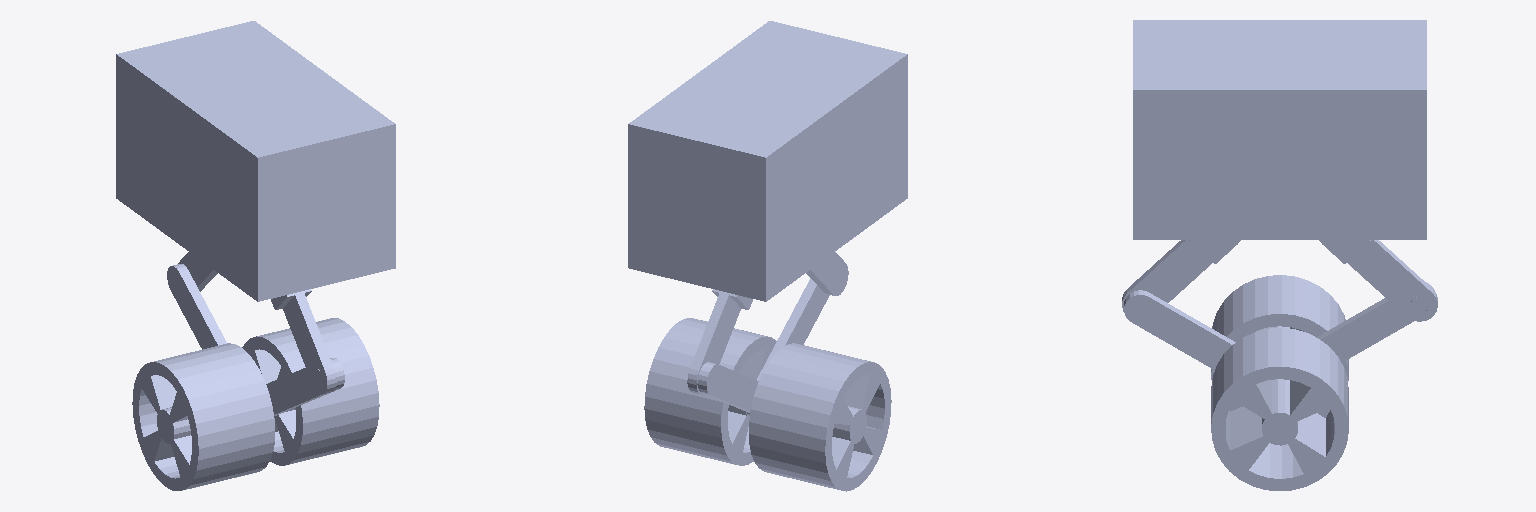
URDF robot description (wheel_leg):
<?xml version="1.0" encoding="utf-8"?>
<!-- This URDF was automatically created by SolidWorks to URDF Exporter! Originally created by [author] ([email redacted]) 
     Commit Version: 1.6.0-4-g7f85cfe  Build Version: 1.6.7995.38578
     For more information, please see http://wiki.ros.org/sw_urdf_exporter -->
<robot
  name="wheel_leg">
  <link
    name="body_link">
    <inertial>
      <origin
        xyz="3.37310181025487E-18 -0.000731227663035883 3.28342495818209E-17"
        rpy="0 0 0" />
      <mass
        value="10.4369238910096" />
      <inertia
        ixx="0.117568847743583"
        ixy="-1.15617863838456E-18"
        ixz="1.38139162296356E-19"
        iyy="0.116725987863209"
        iyz="-6.67481475645864E-18"
        izz="0.056839681354687" />
    </inertial>
    <visual>
      <origin
        xyz="0 0 0"
        rpy="0 0 0" />
      <geometry>
        <mesh
          filename="meshes/body_link.obj" />
      </geometry>
      <material
        name="">
        <color
          rgba="0.792156862745098 0.819607843137255 0.933333333333333 1" />
      </material>
    </visual>
    <collision>
      <origin
        xyz="0 0 0"
        rpy="0 0 0" />
      <geometry>
        <mesh
          filename="meshes/body_link.obj" />
      </geometry>
    </collision>
  </link>
  <link
    name="foreleg_link1">
    <inertial>
      <origin
        xyz="-1.49274668455553E-15 0.0267581865337991 -2.77555756156289E-17"
        rpy="0 0 0" />
      <mass
        value="0.0739398223686155" />
      <inertia
        ixx="0.000151872789753689"
        ixy="7.4509291851736E-21"
        ixz="-2.92452510201117E-22"
        iyy="1.4436599239087E-05"
        iyz="1.64747908240961E-19"
        izz="0.000145963784497094" />
    </inertial>
    <visual>
      <origin
        xyz="0 0 0"
        rpy="0 0 0" />
      <geometry>
        <mesh
          filename="meshes/foreleg_link1.obj" />
      </geometry>
      <material
        name="">
        <color
          rgba="0.792156862745098 0.819607843137255 0.933333333333333 1" />
      </material>
    </visual>
    <collision>
      <origin
        xyz="0 0 0"
        rpy="0 0 0" />
      <geometry>
        <mesh
          filename="meshes/foreleg_link1.obj" />
      </geometry>
    </collision>
  </link>
  <joint
    name="thigh1"
    type="revolute">
    <origin
      xyz="0 -0.12364 -0.17864"
      rpy="0.7854 0 0" />
    <parent
      link="body_link" />
    <child
      link="foreleg_link1" />
    <axis
      xyz="0 0 0" />
    <limit
      lower="-1.57"
      upper="1.57"
      effort="30"
      velocity="23" />
  </joint>
  <link
    name="foreleg_link2">
    <inertial>
      <origin
        xyz="0.00549720278457914 0.00754195823131308 -5.55111512312578E-17"
        rpy="0 0 0" />
      <mass
        value="0.089974512237157" />
      <inertia
        ixx="0.000330944687819586"
        ixy="3.73031392679867E-06"
        ixz="-2.32934060494933E-21"
        iyy="1.09872708384457E-05"
        iyz="2.00323292025642E-19"
        izz="0.000323157047675612" />
    </inertial>
    <visual>
      <origin
        xyz="0 0 0"
        rpy="0 0 0" />
      <geometry>
        <mesh
          filename="meshes/foreleg_link2.obj" />
      </geometry>
      <material
        name="">
        <color
          rgba="0.792156862745098 0.819607843137255 0.933333333333333 1" />
      </material>
    </visual>
    <collision>
      <origin
        xyz="0 0 0"
        rpy="0 0 0" />
      <geometry>
        <mesh
          filename="meshes/foreleg_link2.obj" />
      </geometry>
    </collision>
  </link>
  <joint
    name="lower_leg1"
    type="revolute">
    <origin
      xyz="0.006 -0.020417 -0.087844"
      rpy="1.7901 0 0" />
    <parent
      link="foreleg_link1" />
    <child
      link="foreleg_link2" />
    <axis
      xyz="0 0 0" />
    <limit
      lower="-1.57"
      upper="1.57"
      effort="0"
      velocity="0" />
  </joint>
  <link
    name="wheel_link">
    <inertial>
      <origin
        xyz="1.8428621001924E-18 1.95943768556878E-14 -2.2815083156047E-14"
        rpy="0 0 0" />
      <mass
        value="2.21106966475732" />
      <inertia
        ixx="0.00726098209005097"
        ixy="2.81690305599461E-18"
        ixz="-1.41348936711185E-18"
        iyy="0.0156045113542061"
        iyz="-1.85795763651288E-15"
        izz="0.0156045113542067" />
    </inertial>
    <visual>
      <origin
        xyz="0 0 0"
        rpy="0 0 0" />
      <geometry>
        <mesh
          filename="meshes/wheel_link.obj" />
      </geometry>
      <material
        name="">
        <color
          rgba="0.792156862745098 0.819607843137255 0.933333333333333 1" />
      </material>
    </visual>
    <collision>
      <origin
        xyz="0 0 0"
        rpy="0 0 0" />
      <geometry>
        <mesh
          filename="meshes/wheel_link.obj" />
      </geometry>
    </collision>
  </link>
  <joint
    name="huai_joint"
    type="continuous">
    <origin
      xyz="-0.006 -0.09 0"
      rpy="-2.5755 0 0" />
    <parent
      link="foreleg_link2" />
    <child
      link="wheel_link" />
    <axis
      xyz="1 0 0" />
  </joint>
  <link
    name="hindleg_link1">
    <inertial>
      <origin
        xyz="-1.46596510186701E-15 0.0267581865337991 2.77555756156289E-17"
        rpy="0 0 0" />
      <mass
        value="0.0739398223686155" />
      <inertia
        ixx="0.000151872789753689"
        ixy="1.50779638554275E-20"
        ixz="-2.92452510201073E-22"
        iyy="1.4436599239087E-05"
        iyz="0"
        izz="0.000145963784497094" />
    </inertial>
    <visual>
      <origin
        xyz="0 0 0"
        rpy="0 0 0" />
      <geometry>
        <mesh
          filename="meshes/hindleg_link1.obj" />
      </geometry>
      <material
        name="">
        <color
          rgba="0.792156862745098 0.819607843137255 0.933333333333333 1" />
      </material>
    </visual>
    <collision>
      <origin
        xyz="0 0 0"
        rpy="0 0 0" />
      <geometry>
        <mesh
          filename="meshes/hindleg_link1.obj" />
      </geometry>
    </collision>
  </link>
  <joint
    name="thigh2"
    type="revolute">
    <origin
      xyz="0 0.12364 -0.17864"
      rpy="2.3562 0 0" />
    <parent
      link="body_link" />
    <child
      link="hindleg_link1" />
    <axis
      xyz="0 0 0" />
    <limit
      lower="-1.57"
      upper="1.57"
      effort="30"
      velocity="23" />
  </joint>
  <link
    name="hindleg_link2">
    <inertial>
      <origin
        xyz="0.00549720278457914 0.00754195823131304 0"
        rpy="0 0 0" />
      <mass
        value="0.0899745122371571" />
      <inertia
        ixx="0.000330944687819586"
        ixy="3.73031392679872E-06"
        ixz="-8.47032947254303E-22"
        iyy="1.09872708384457E-05"
        iyz="7.53859323056327E-20"
        izz="0.000323157047675613" />
    </inertial>
    <visual>
      <origin
        xyz="0 0 0"
        rpy="0 0 0" />
      <geometry>
        <mesh
          filename="meshes/hindleg_link2.obj" />
      </geometry>
      <material
        name="">
        <color
          rgba="0.792156862745098 0.819607843137255 0.933333333333333 1" />
      </material>
    </visual>
    <collision>
      <origin
        xyz="0 0 0"
        rpy="0 0 0" />
      <geometry>
        <mesh
          filename="meshes/hindleg_link2.obj" />
      </geometry>
    </collision>
  </link>
  <joint
    name="lower_leg2"
    type="revolute">
    <origin
      xyz="-0.006 -0.020417 0.087844"
      rpy="-1.3515 0 3.1416" />
    <parent
      link="hindleg_link1" />
    <child
      link="hindleg_link2" />
    <axis
      xyz="0 0 0" />
    <limit
      lower="-1.57"
      upper="1.57"
      effort="0"
      velocity="0" />
  </joint>
</robot>

--- Render facts (derived) ---
The picture shows the robot from 3 angles, left to right: view 1: azimuth 30°, elevation 25°; view 2: azimuth 150°, elevation 25°; view 3: azimuth 270°, elevation 25°; orthographic projection.
Model wheel_leg with 6 links and 5 joints (4 revolute, 1 continuous), rooted at body_link, posed every joint at zero.
Links seen in each view (by area): view 1: body_link, wheel_link, foreleg_link1, hindleg_link2, foreleg_link2, hindleg_link1; view 2: body_link, wheel_link, hindleg_link1, hindleg_link2, foreleg_link2, foreleg_link1; view 3: body_link, wheel_link, hindleg_link1, foreleg_link2, foreleg_link1, hindleg_link2.
Link boxes in pixels (x1,y1,x2,y2): body_link: [116, 21, 395, 301]; wheel_link: [132, 318, 379, 490]; foreleg_link1: [271, 289, 336, 394]; hindleg_link2: [167, 264, 226, 349]; foreleg_link2: [266, 358, 344, 415]; hindleg_link1: [178, 252, 217, 291]; body_link: [628, 21, 907, 301]; wheel_link: [644, 318, 891, 491]; hindleg_link1: [687, 289, 752, 394]; hindleg_link2: [697, 362, 758, 412]; foreleg_link2: [747, 271, 843, 415]; foreleg_link1: [806, 252, 848, 295]; body_link: [1133, 20, 1426, 241]; wheel_link: [1211, 275, 1348, 490]; hindleg_link1: [1319, 240, 1437, 321]; foreleg_link2: [1124, 290, 1235, 369]; foreleg_link1: [1122, 240, 1240, 311]; hindleg_link2: [1316, 282, 1434, 362].
Bounding box of the posed robot: 0.236 × 0.3437 × 0.4684 m (x, y, z).
Meshes: 6 distinct files referenced, 6 mesh visuals loaded (6 OBJ).